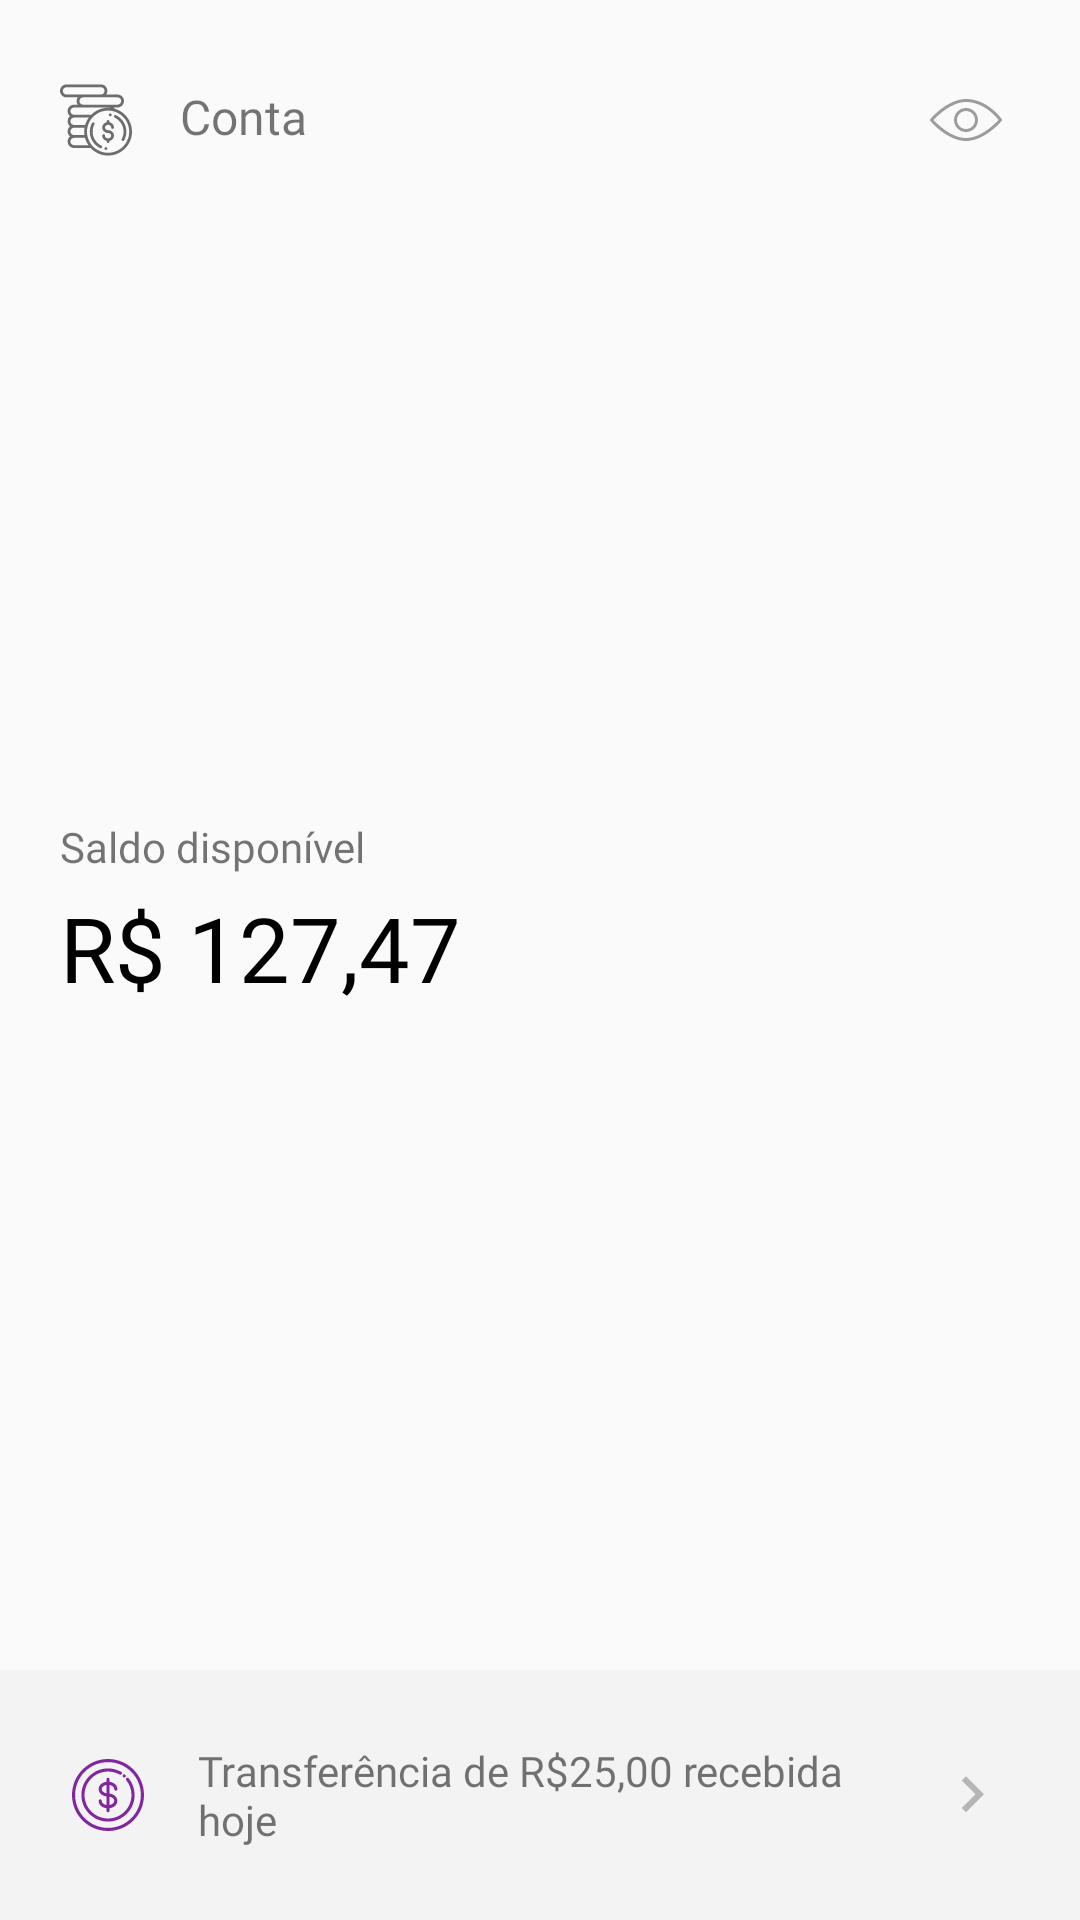

Locate icon controls on the screen. Image size 1080×1920, boxes as (x1, y1, x2, y2).
eye: (930, 99, 1002, 141)
